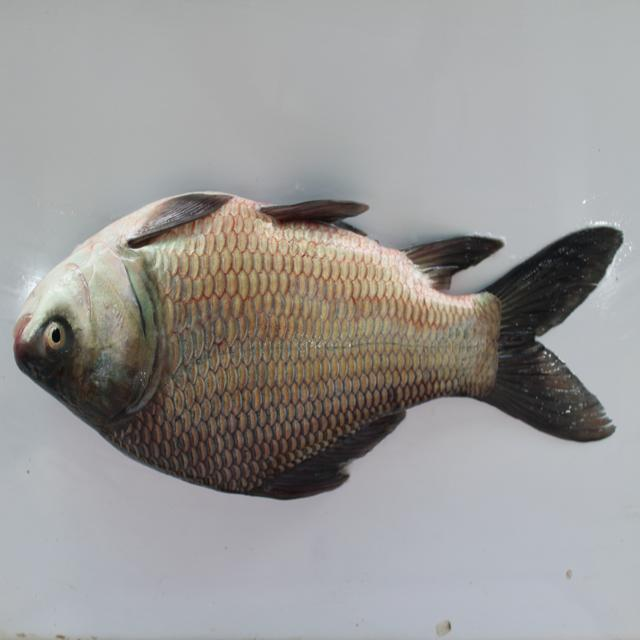Catla: (10, 187, 622, 503)
